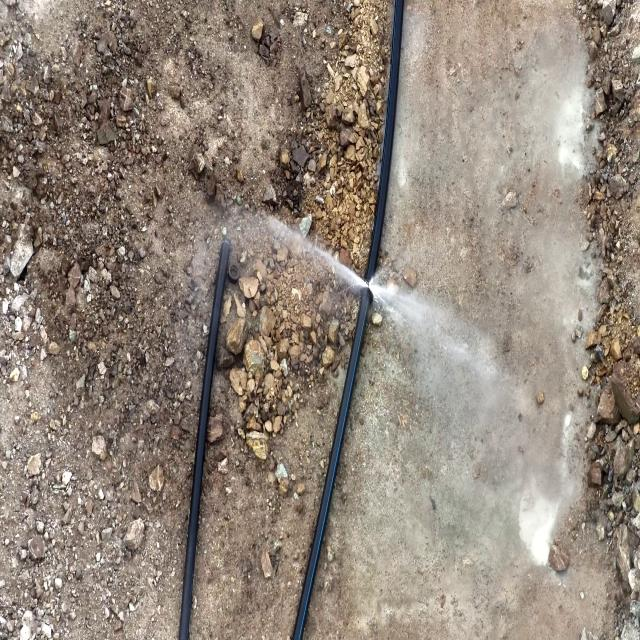leak: (256, 204, 433, 336)
